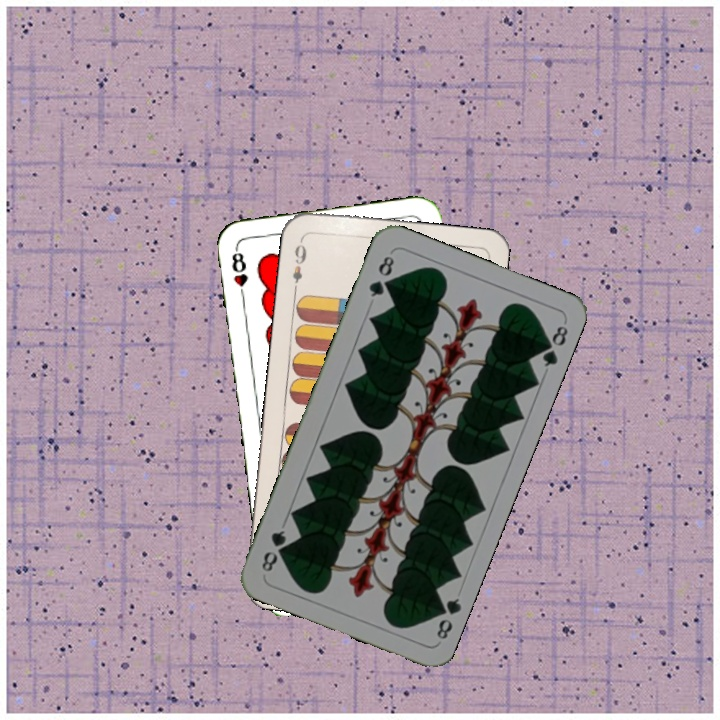E9: (288, 235, 310, 294)
G8: (430, 594, 464, 642), (364, 251, 397, 300)
H8: (227, 244, 251, 303)
